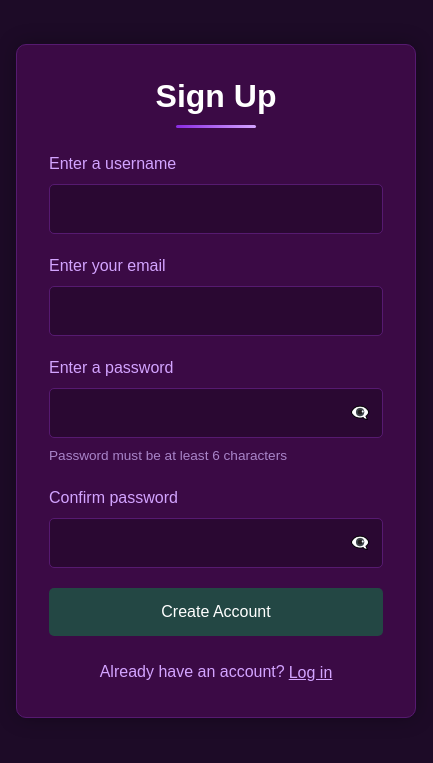
Test: SignUpPage › shows error when fields are empty
The image size is (433, 763).
Click the button "Create Account". click: (216, 612)
box: [49,588,383,636]
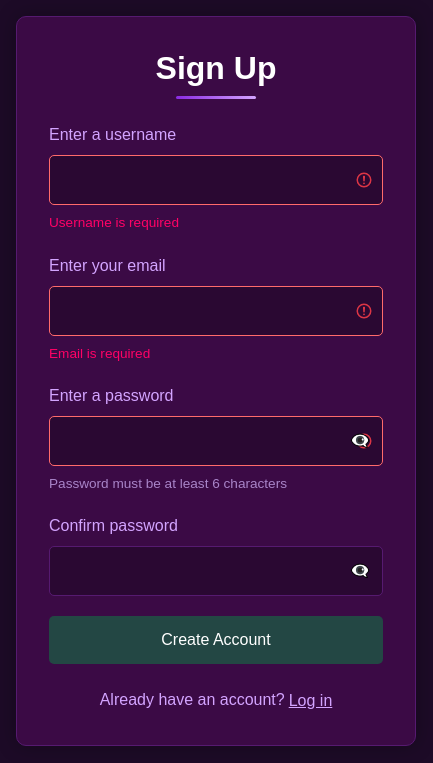
Now the text "Username is required" is shown, box [49,215,179,230]
Now the text "Email is required" is shown, box [49,346,150,361]
